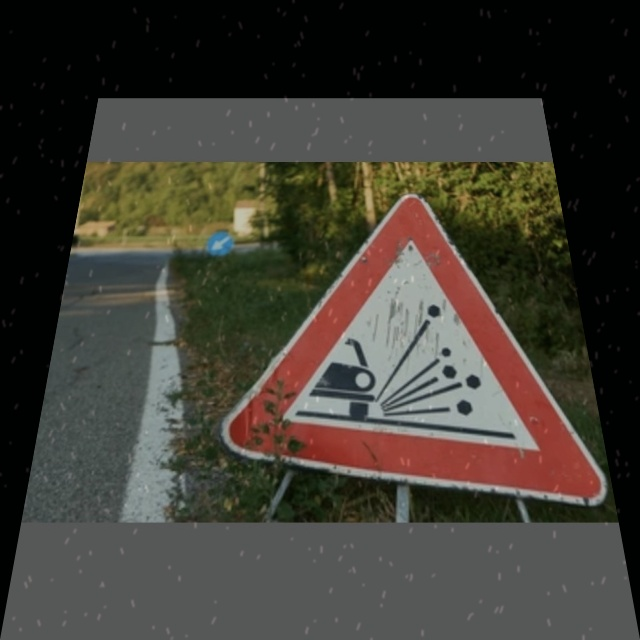Loose_Gravel: (248, 194, 587, 481)
